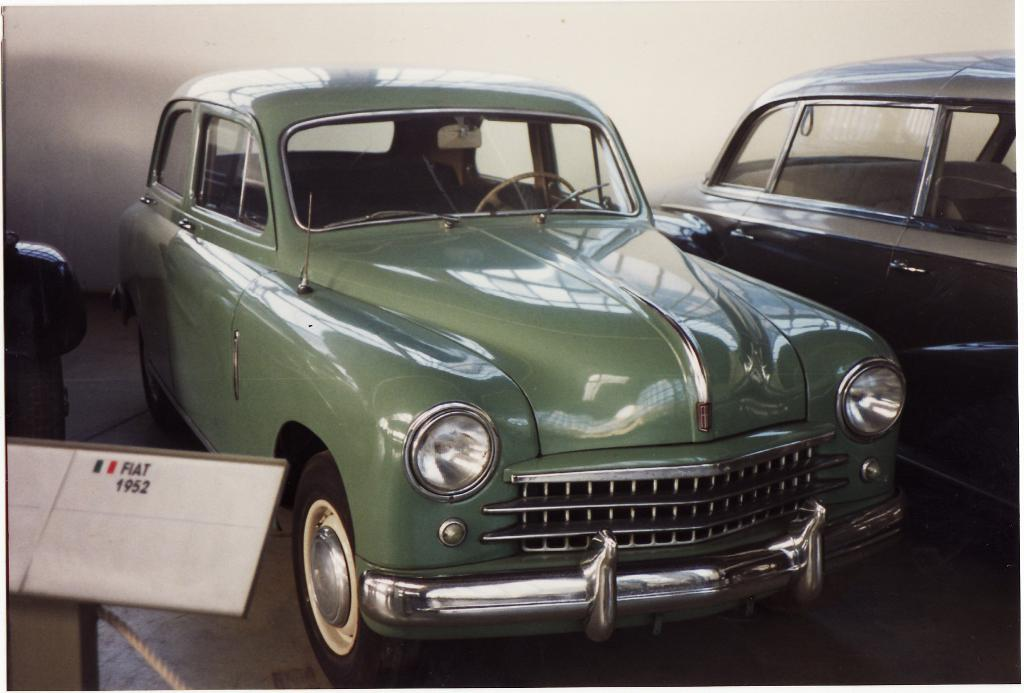car: (106, 36, 919, 643)
